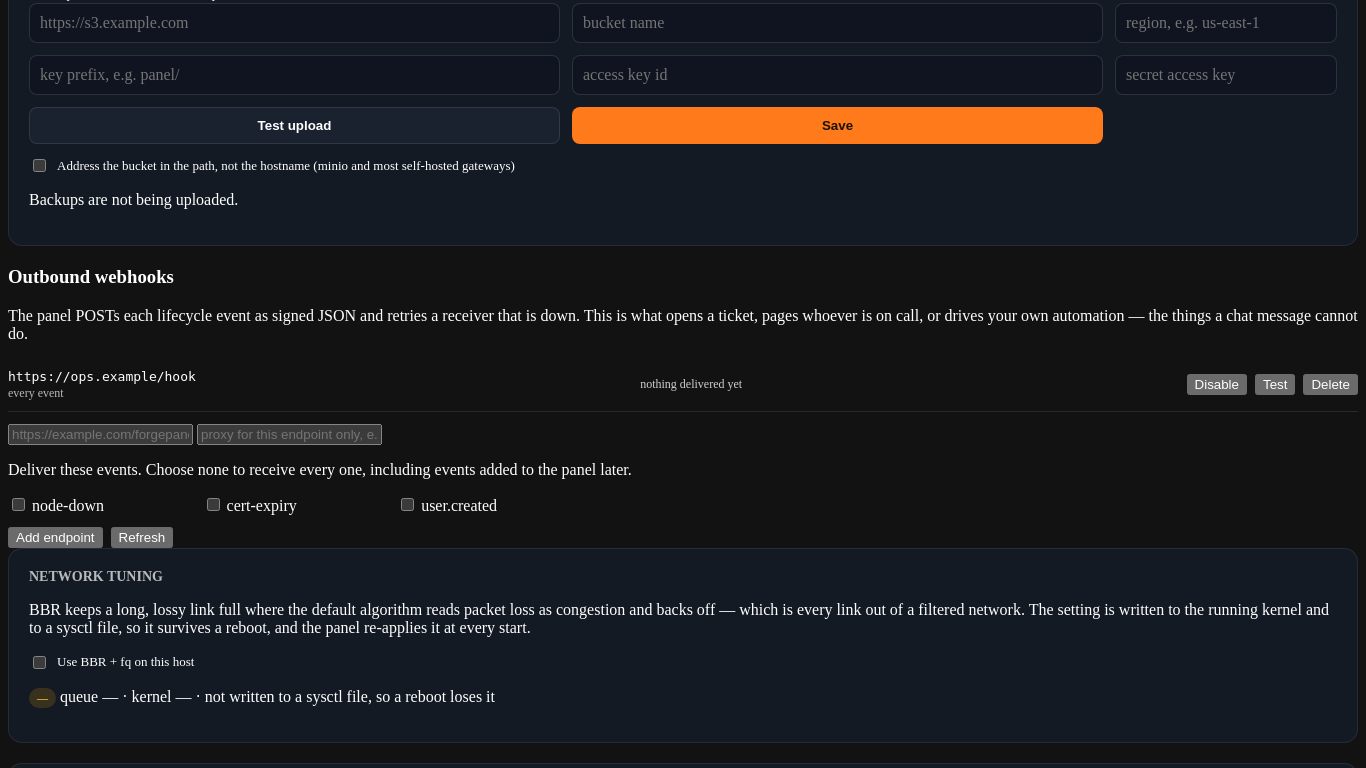
it: SystemHealthView webhook endpoints card › reports the receivers own status code when a test delivery is refused
This screenshot has width=1366, height=768.
(page scrolled)
Click the button with test id "webhook-test-9" at (1275, 385), box x1=1255 y1=374 x2=1296 y2=395
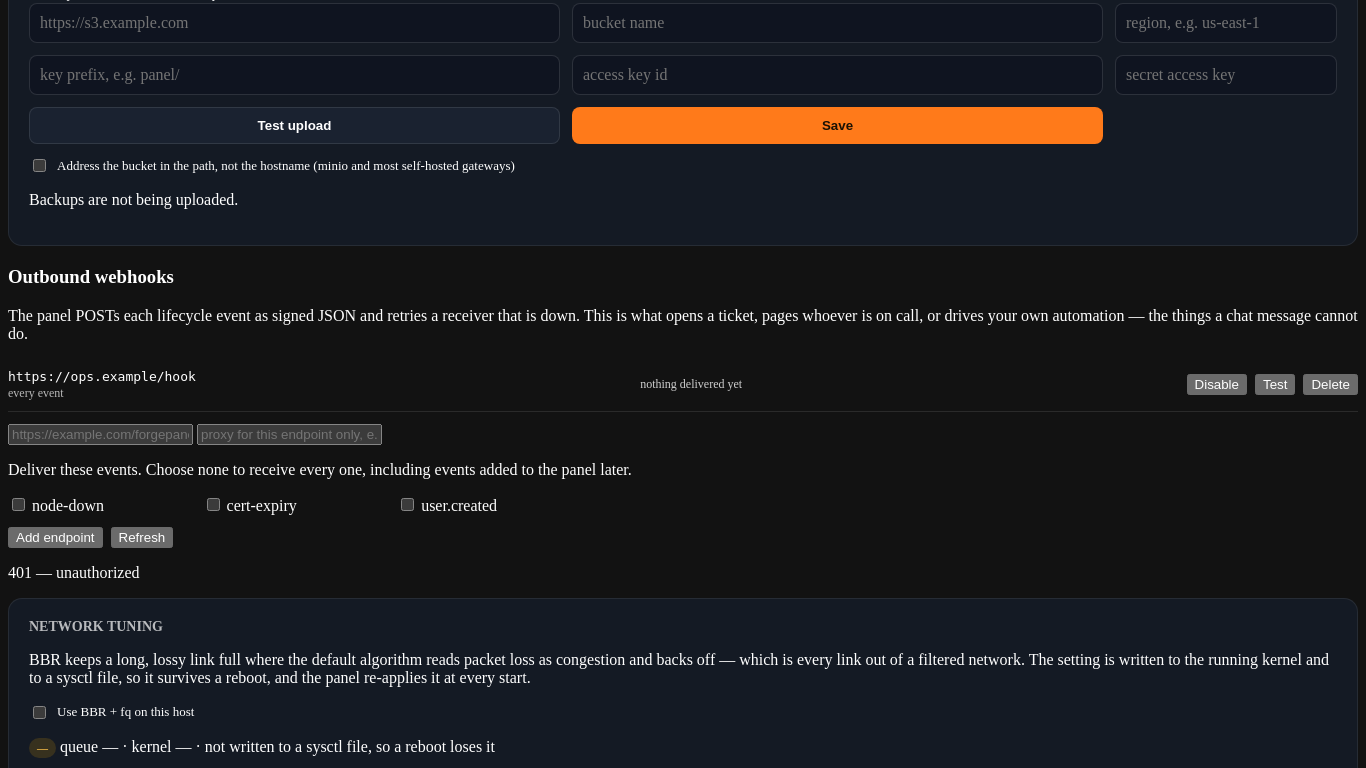
Expected: the text with test id "webhook-error" shows "401", x1=8 y1=564 x2=140 y2=581
